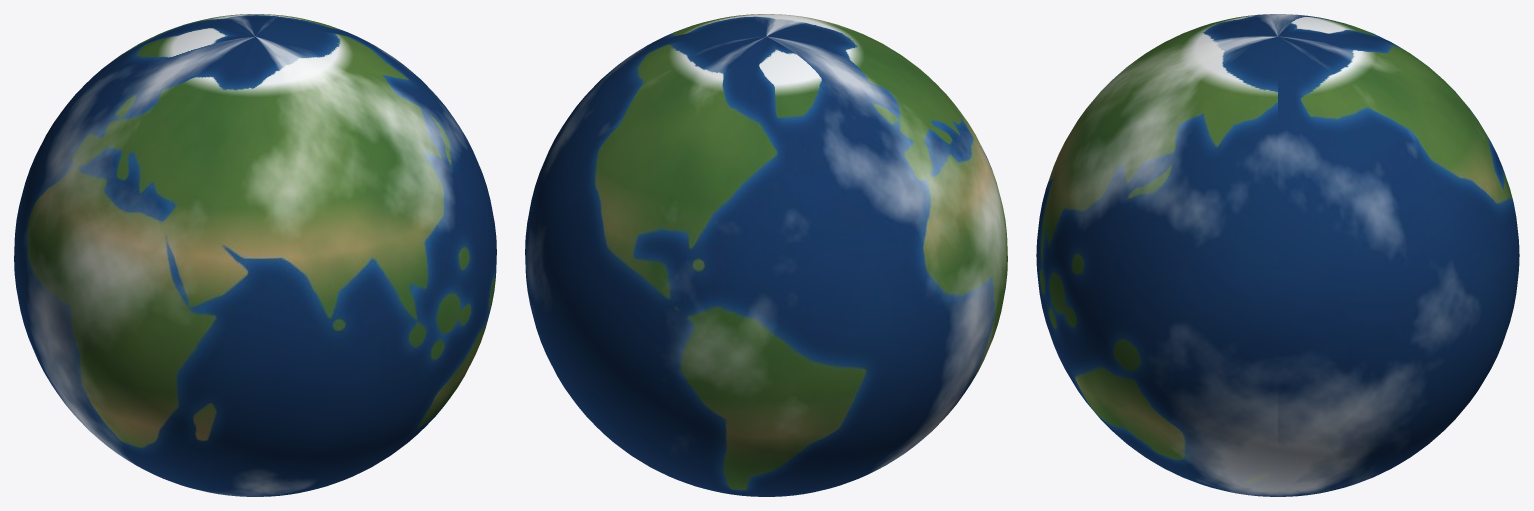
The model's file is planet_earth.glb.
3 views of the same model, side by side, from view 1: azimuth 30°, elevation 25°; view 2: azimuth 150°, elevation 25°; view 3: azimuth 270°, elevation 25° (orthographic).
Parts seen in each view (by area): view 1: planet_earth; view 2: planet_earth; view 3: planet_earth.
Boxes of the visible parts, left/top/right/bottom form: planet_earth: left=14, top=14, right=496, bottom=496; planet_earth: left=525, top=14, right=1007, bottom=496; planet_earth: left=1036, top=14, right=1519, bottom=496.
Size of the model in its own units: 1 by 1 by 1.
1 material, 1 textured.
